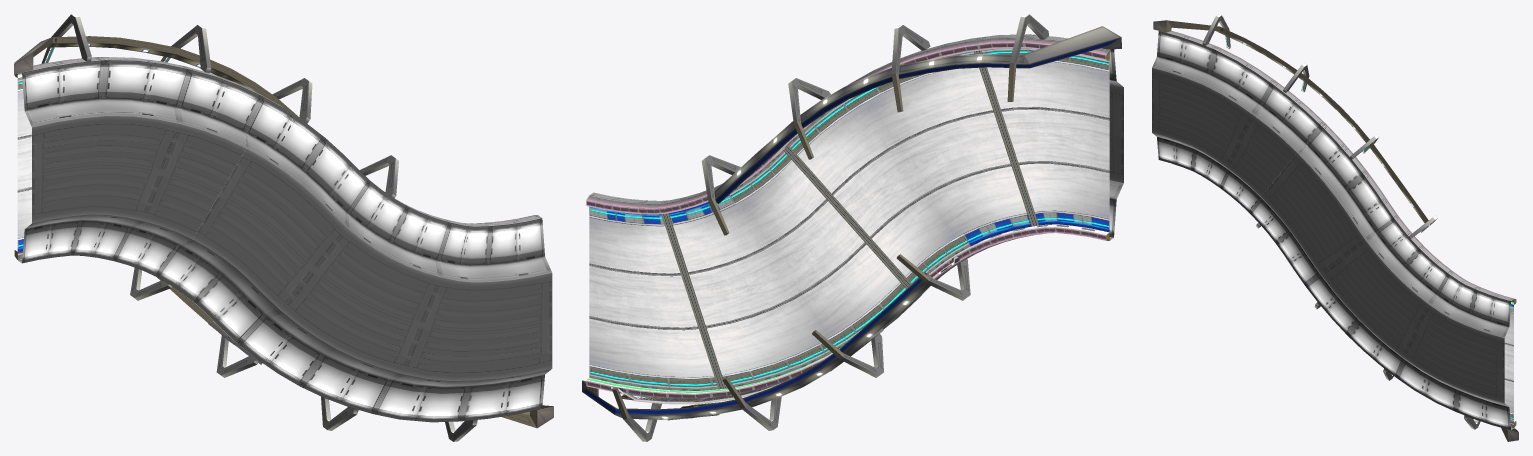
Rendered from T32 - Magnetic 3.fbx.
3 renders of one model, left to right at view 1: azimuth 30°, elevation 25°; view 2: azimuth 150°, elevation 25°; view 3: azimuth 330°, elevation 25°, orthographic. The views are drawn at different scales.
Visible parts, largest first — view 1: standard_bridge, mag_sbend_cage4, visual_drift_road; view 2: visual_drift_road, mag_sbend_cage4, magnetic_road_lines, wall_drift10, standard_bridge, corner_arrows_steering_large1; view 3: standard_bridge, mag_sbend_cage4, visual_drift_road, wall_drift10.
Part boxes in pixels (x1=…): standard_bridge: x1=17, y1=57, x2=552, y2=422; mag_sbend_cage4: x1=14, y1=14, x2=553, y2=441; visual_drift_road: x1=17, y1=77, x2=257, y2=251; visual_drift_road: x1=589, y1=48, x2=1109, y2=390; mag_sbend_cage4: x1=582, y1=14, x2=1121, y2=441; magnetic_road_lines: x1=589, y1=67, x2=1109, y2=375; wall_drift10: x1=586, y1=37, x2=1109, y2=398; standard_bridge: x1=589, y1=34, x2=1123, y2=329; corner_arrows_steering_large1: x1=611, y1=255, x2=959, y2=404; standard_bridge: x1=1152, y1=31, x2=1513, y2=430; mag_sbend_cage4: x1=1153, y1=14, x2=1518, y2=441; visual_drift_road: x1=1303, y1=129, x2=1513, y2=422; wall_drift10: x1=1171, y1=31, x2=1516, y2=427.
Bounding box in the file's own units: 13275 × 12158 × 2206.
